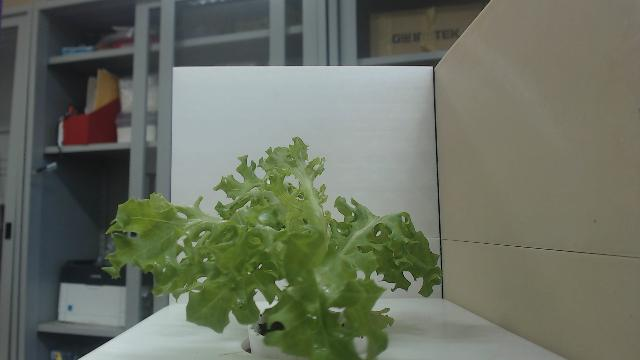Harvest Stage: (99, 135, 443, 360)
